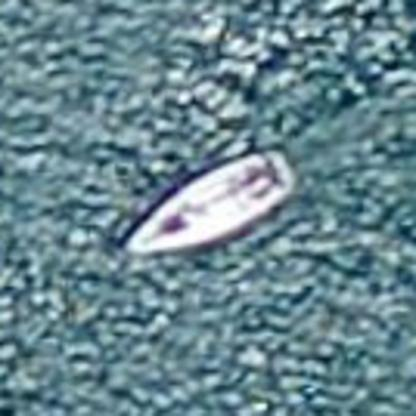ship: (106, 138, 310, 268)
